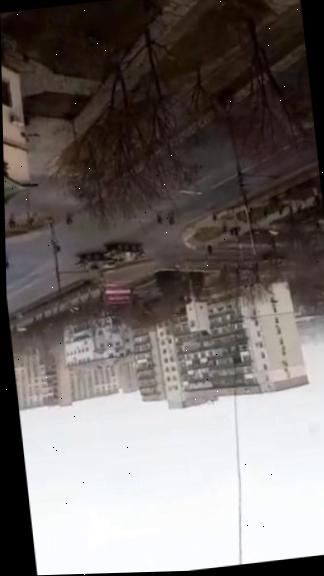person: (63, 209, 75, 229), (166, 210, 177, 230), (24, 210, 36, 228), (6, 212, 17, 231), (294, 201, 304, 217), (155, 212, 166, 226), (221, 221, 230, 237), (261, 203, 270, 219), (211, 208, 219, 224), (6, 256, 12, 273), (228, 224, 235, 238), (278, 203, 285, 217), (207, 245, 213, 256), (234, 226, 239, 239)
tank: (75, 251, 122, 273), (103, 241, 146, 265)
